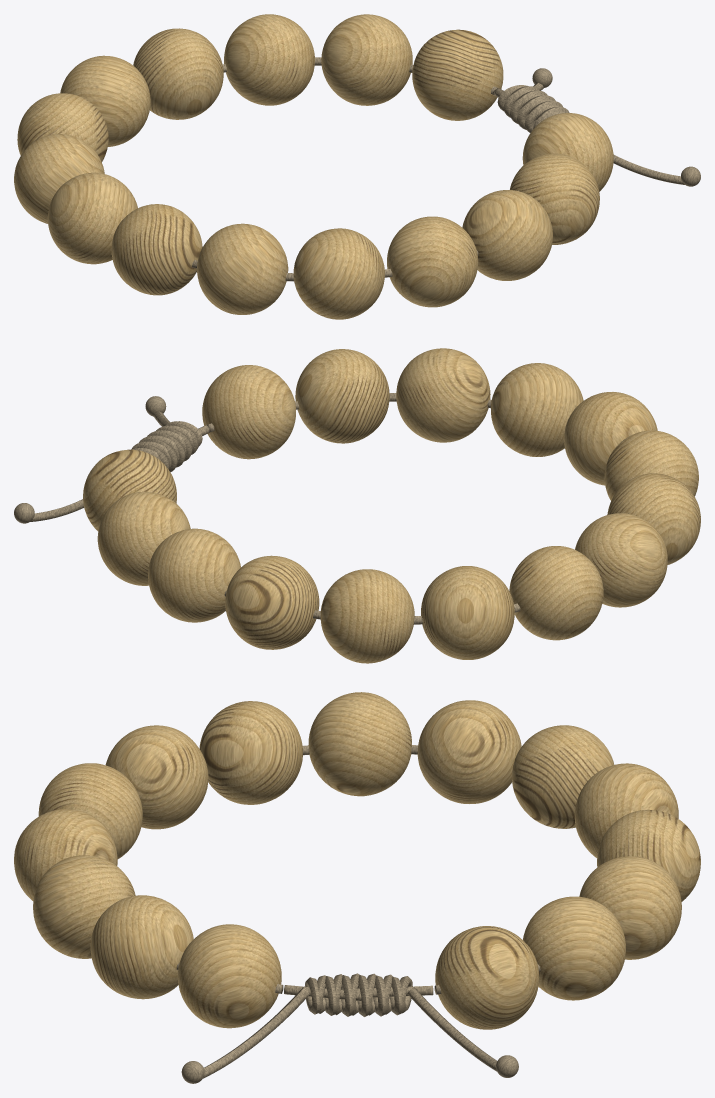
Rendered from oliwka.glb.
The picture shows the model from 3 angles, top to bottom: view 1: azimuth 30°, elevation 25°; view 2: azimuth 150°, elevation 25°; view 3: azimuth 270°, elevation 25°; orthographic projection. The views are drawn at different scales.
Parts seen in each view (by area): view 1: bead_round_1, bead_round_1.003, bead_round_0.003, bead_round_2, bead_round_2.003, bead_round_0, bead_round_2.002, bead_round_0.004, bead_round_0.001, bead_round_1.002, bead_round_1.004, bead_round_1.001 (+4 smaller); view 2: bead_round_1.001, bead_round_0.004, bead_round_1.004, bead_round_2.001, bead_round_0.001, bead_round_0.002, bead_round_2.004, bead_round_2, bead_round_2.003, bead_round_1.002, bead_round_1, bead_round_1.003 (+3 smaller); view 3: bead_round_1.002, bead_round_0, bead_round_2.004, bead_round_0.002, bead_round_2.002, bead_round_1.004, bead_round_1, bead_round_0.003, bead_round_2.001, bead_round_0.004, bead_round_2, bead_round_1.003 (+5 smaller).
Part boxes in pixels (x1,y1,x2,y2): bead_round_1: (321, 14, 412, 105); bead_round_1.003: (293, 228, 384, 319); bead_round_0.003: (197, 223, 288, 314); bead_round_2: (224, 14, 314, 105); bead_round_2.003: (387, 216, 478, 307); bead_round_0: (412, 29, 503, 120); bead_round_2.002: (111, 204, 202, 295); bead_round_0.004: (462, 190, 552, 280); bead_round_0.001: (133, 28, 223, 119); bead_round_1.002: (47, 172, 137, 264); bead_round_1.004: (510, 153, 599, 244); bead_round_1.001: (60, 55, 150, 146); bead_round_1.001: (320, 569, 414, 663); bead_round_0.004: (396, 348, 490, 442); bead_round_1.004: (295, 349, 389, 443); bead_round_2.001: (421, 566, 514, 659); bead_round_0.001: (225, 555, 319, 649); bead_round_0.002: (509, 546, 603, 640); bead_round_2.004: (202, 365, 295, 459); bead_round_2: (148, 528, 240, 622); bead_round_2.003: (490, 363, 583, 456); bead_round_1.002: (575, 513, 667, 607); bead_round_1: (97, 491, 190, 585); bead_round_1.003: (564, 392, 657, 485); bead_round_1.002: (308, 692, 411, 796); bead_round_0: (435, 926, 539, 1029); bead_round_2.004: (177, 924, 281, 1028); bead_round_0.002: (417, 700, 521, 803); bead_round_2.002: (199, 701, 302, 804); bead_round_1.004: (90, 895, 193, 999); bead_round_1: (523, 896, 625, 1000); bead_round_0.003: (105, 725, 208, 829); bead_round_2.001: (512, 725, 614, 828); bead_round_0.004: (33, 855, 135, 958); bead_round_2: (579, 856, 681, 959); bead_round_1.003: (38, 763, 142, 858).
Bounding box in the file's own units: 7.23 × 1 × 6.6.
Materials: 4 (4 with a texture image).
